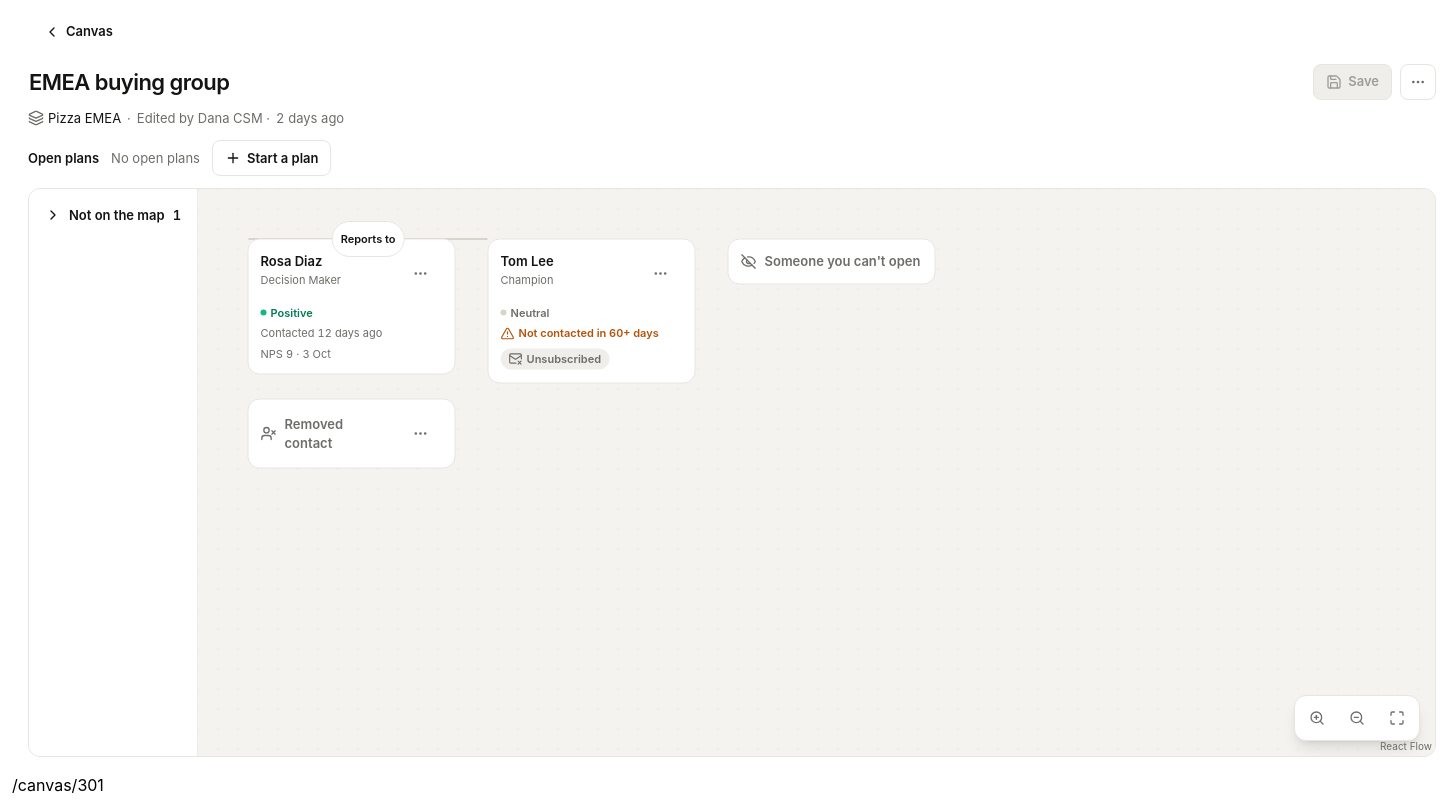
Scenario: MapEditor: load, header, plans, board, save (spec §2.2) › renames, shows Unsaved changes, and saves once with the version and only the contract keys
Replace the text in the field named "Map name" with "EMEA buyers". click: point(657, 82)
box: [20,64,1293,100]
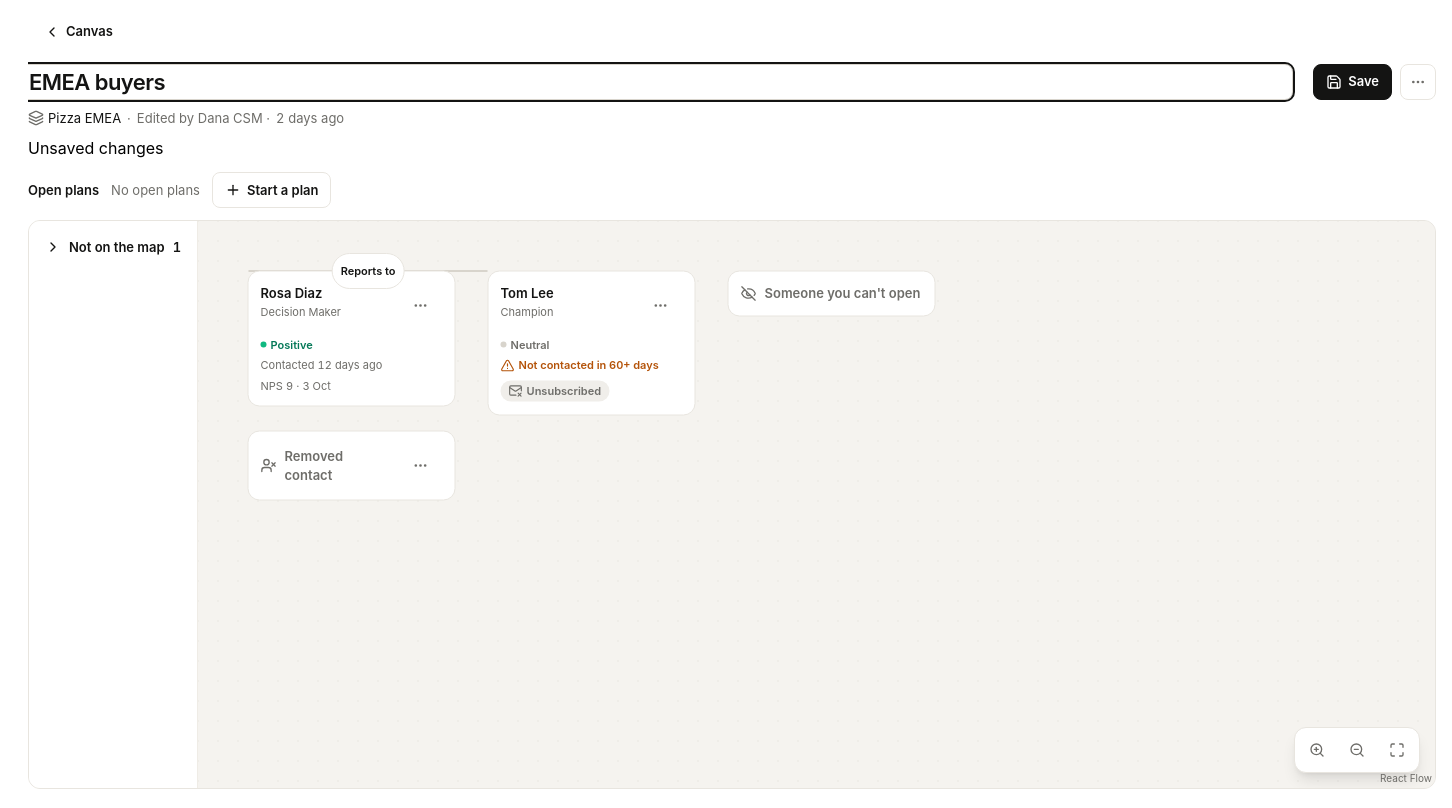
Expected: the text "Unsaved changes" is shown, [28,138,164,158]
Double-click the button "Save" at point(1353, 82), box [1313,64,1392,100]
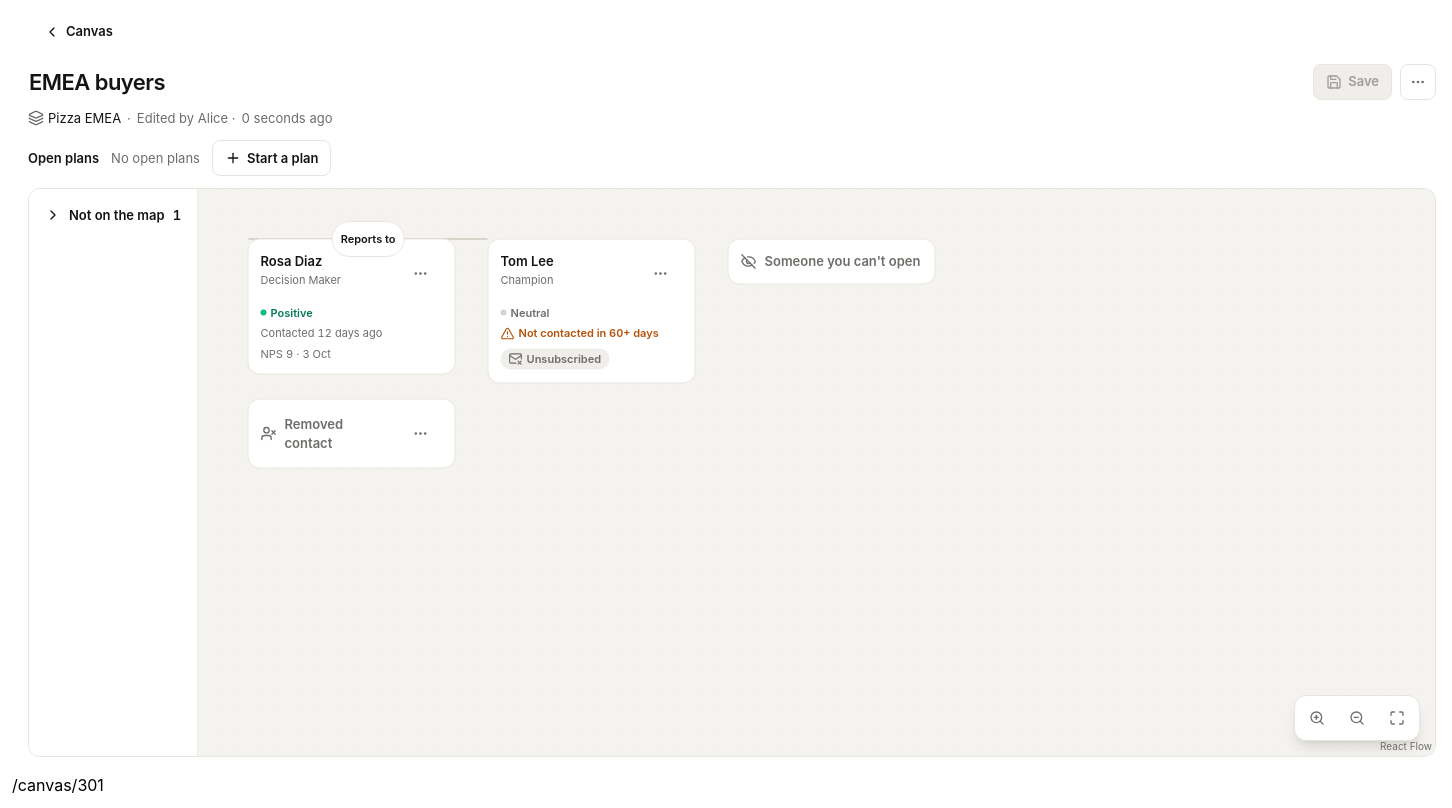
Expected: the text "Unsaved changes" is gone
Expected: the text "Edited by Alice ·" is shown, [137,108,236,128]
